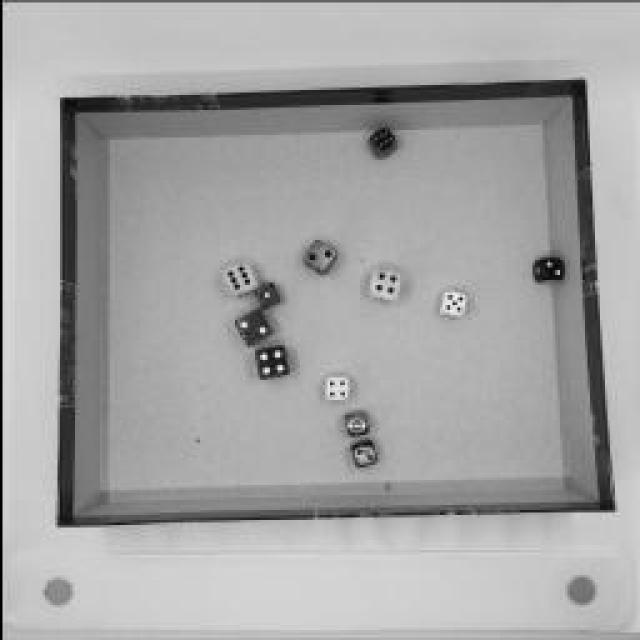dice_1: (338, 409, 370, 439), (251, 281, 281, 311)
dice_2: (230, 308, 275, 348), (298, 239, 342, 276), (527, 254, 565, 286), (344, 438, 381, 470)
dice_4: (361, 265, 404, 305), (251, 342, 291, 382), (320, 374, 350, 404)
dice_5: (435, 288, 465, 320)
dice_6: (218, 258, 258, 298), (364, 124, 396, 161)
